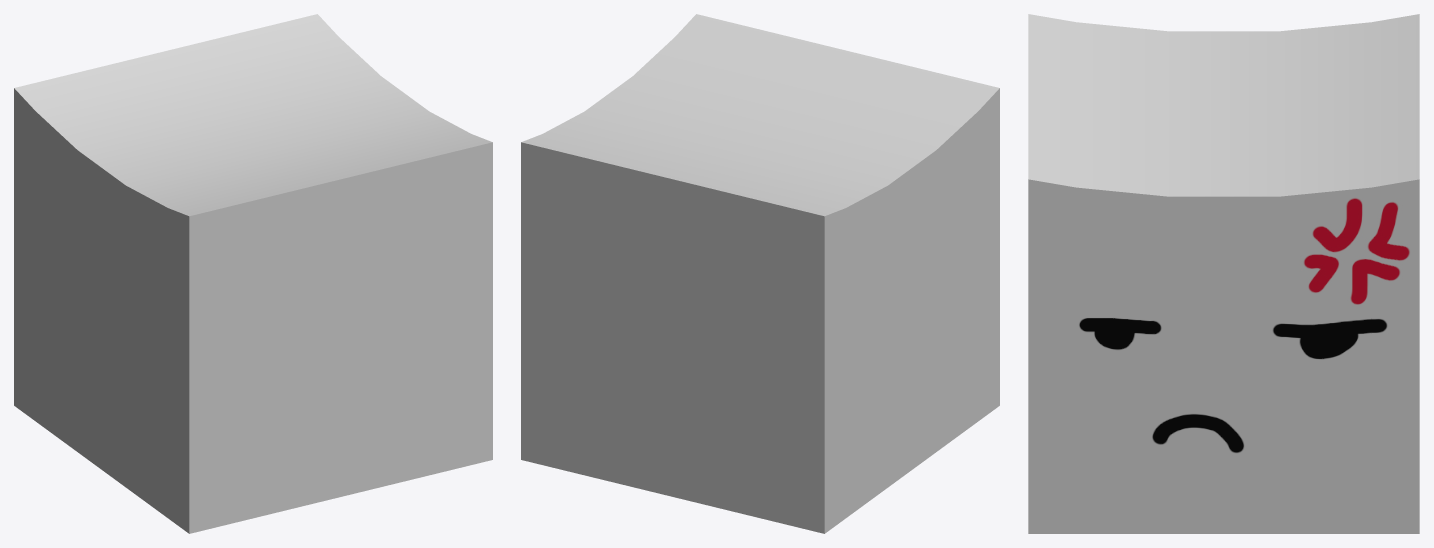
The model's file is angry.fbx.
3 renders of one model, left to right at view 1: azimuth 30°, elevation 25°; view 2: azimuth 150°, elevation 25°; view 3: azimuth 270°, elevation 25°, orthographic. The views are drawn at different scales.
Visible parts, largest first — view 1: Plane.001; view 2: Plane.001; view 3: Plane.001.
Part boxes in pixels (<box>): Plane.001: <box>14,14,492,533</box>; Plane.001: <box>521,14,999,533</box>; Plane.001: <box>1028,14,1419,533</box>.
Size of the model in its own units: 200 by 200 by 200.
